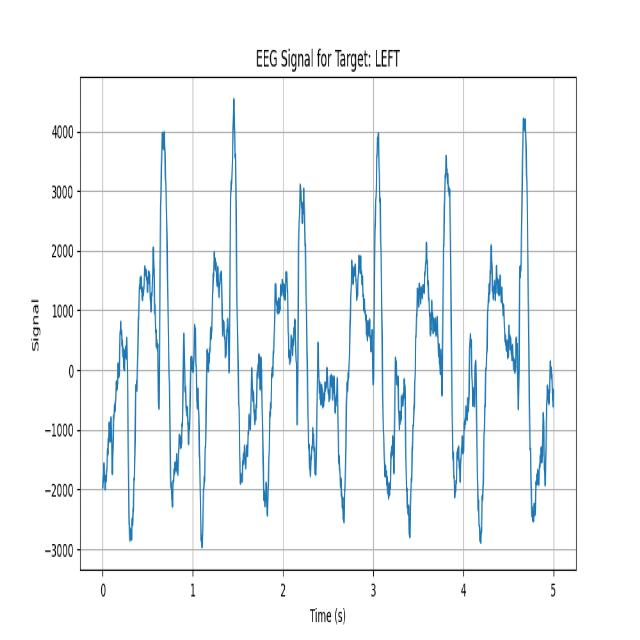LEFT: (471, 92, 553, 545), (323, 91, 398, 543), (398, 91, 472, 547), (111, 129, 187, 549), (255, 91, 324, 551), (186, 88, 255, 546)
